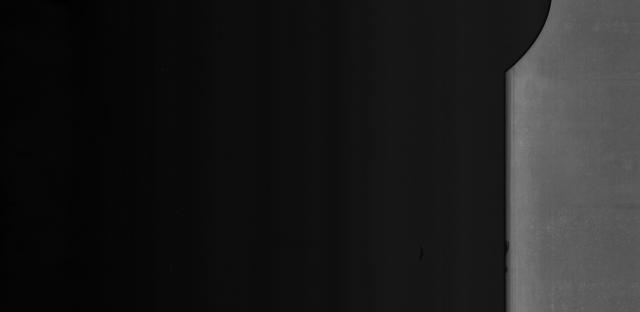crescent_gap: (490, 0, 570, 85)
